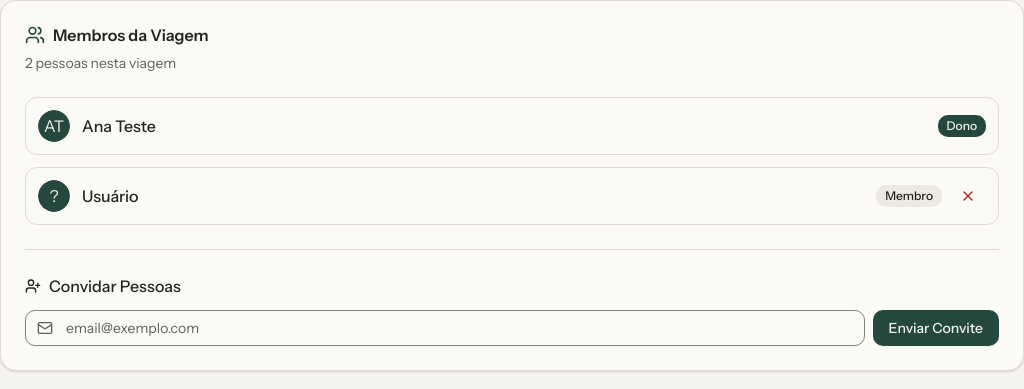
Test: TripMembers — convite › desfecho enviado vira toast de sucesso com o aviso certo
The image size is (1024, 389).
In the field named "E-mail de quem convidar": (445, 328) 25,310 -> 865,346, type "carla@viajamais.local"
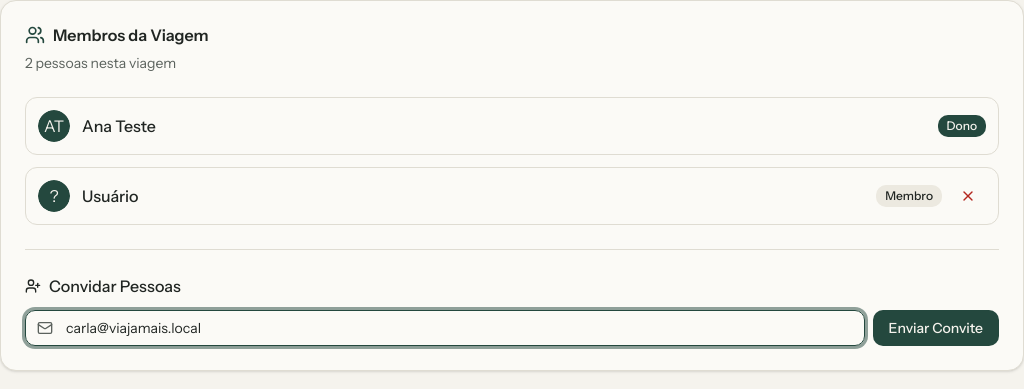
Click the button "Enviar Convite": (936, 328) 873,310 -> 999,346
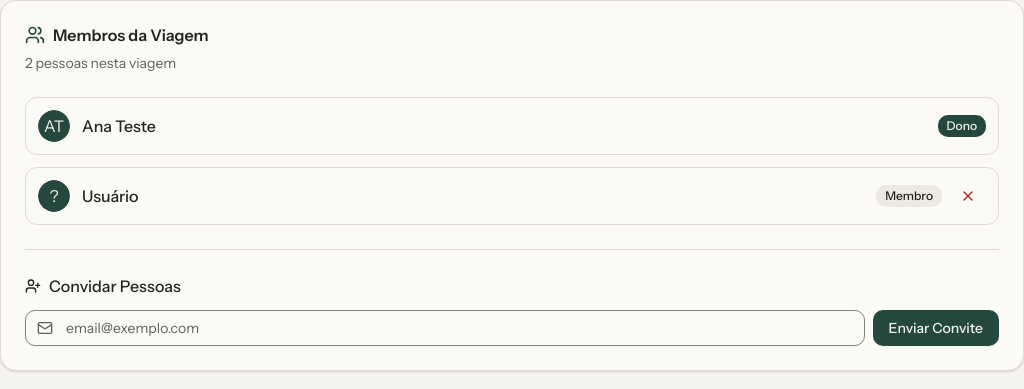
Expected: the field named "E-mail de quem convidar" is empty, 25,310 -> 865,346
